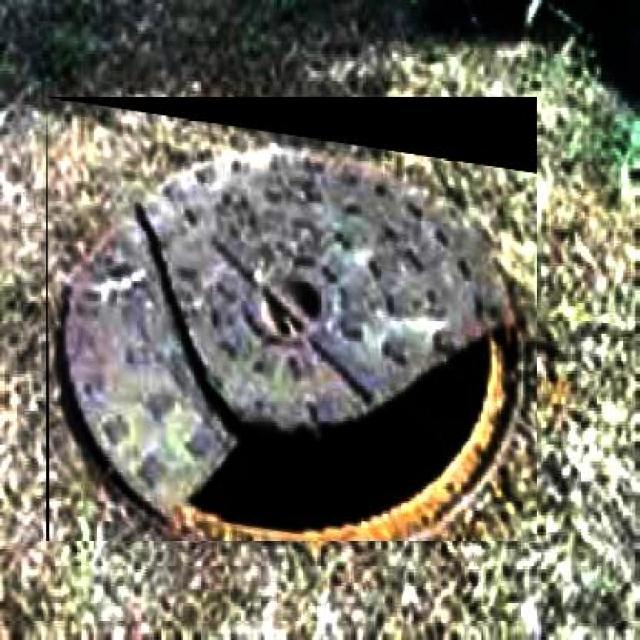Open Manhole: (46, 97, 537, 540)
